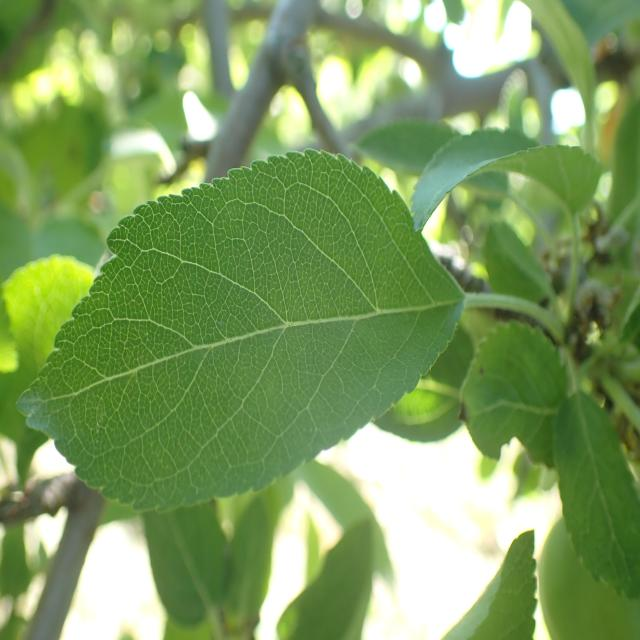healthy: (15, 148, 466, 514), (552, 390, 640, 599), (459, 321, 567, 470), (442, 528, 538, 640)
